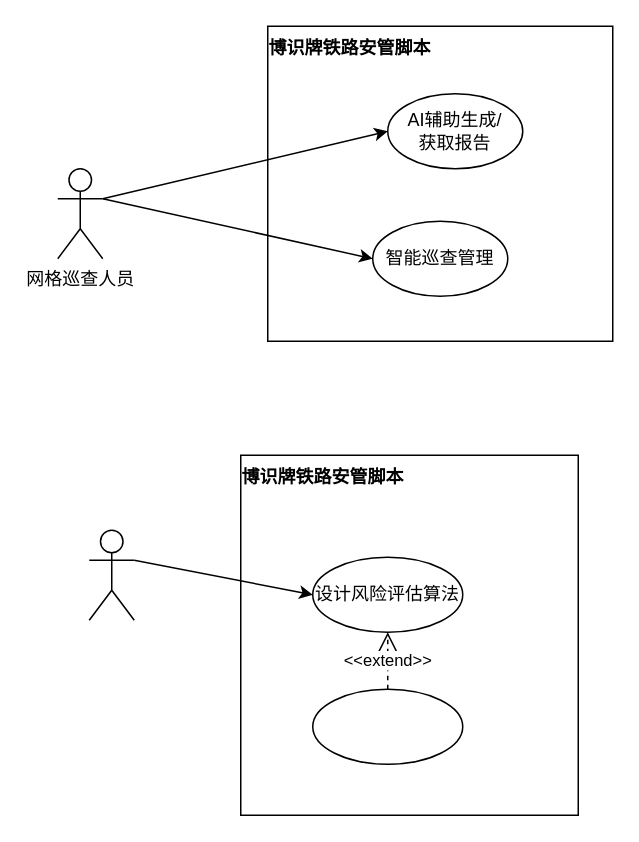
This 639x842 diagram has some shape labels left out. The shapes that lost their labels are listed below. From the top down, each one's centre as x and y in pixels, then its label:
point (111, 574): BJTU研究人员
point (387, 726): 算法Debug
